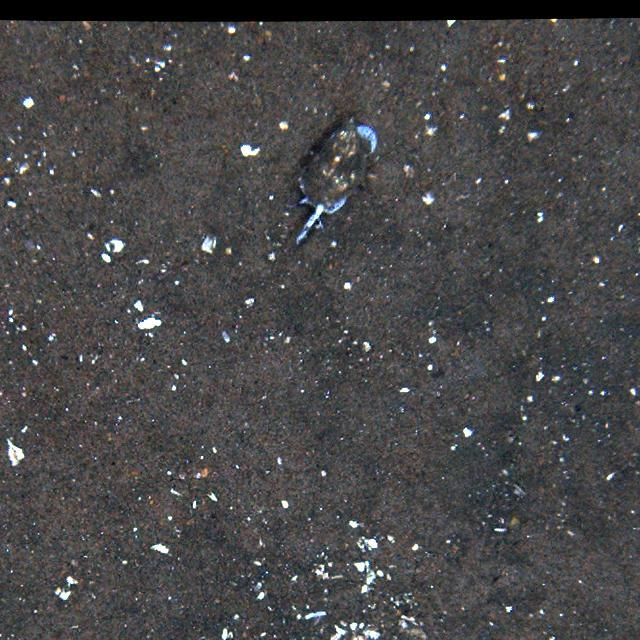whelk: (299, 117, 361, 203)
